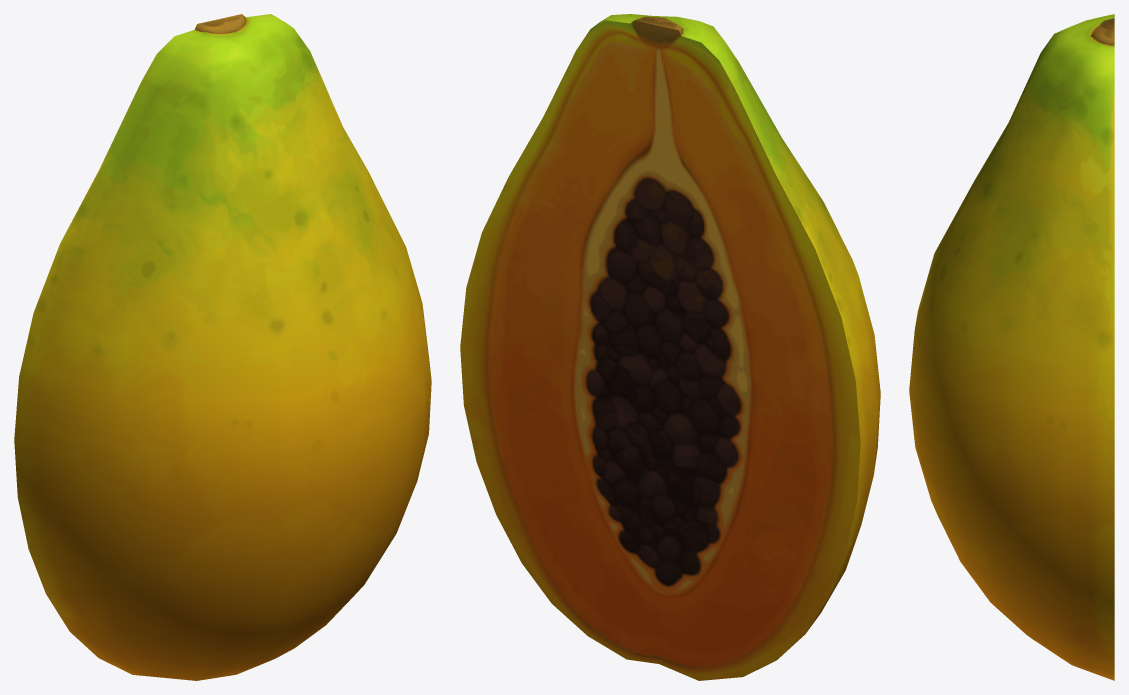
File: SM_PapayaCutA.fbx
3 views of the same model, side by side, from view 1: azimuth 30°, elevation 25°; view 2: azimuth 150°, elevation 25°; view 3: azimuth 270°, elevation 25° (orthographic). The views are drawn at different scales.
Parts seen in each view (by area): view 1: SM_PapayaCutA; view 2: SM_PapayaCutA; view 3: SM_PapayaCutA.
Boxes of the visible parts, <box> form: SM_PapayaCutA: <box>14,14,431,680</box>; SM_PapayaCutA: <box>460,14,880,680</box>; SM_PapayaCutA: <box>909,14,1114,680</box>.
Size of the model in its own units: 14.34 by 22.1 by 6.47.
